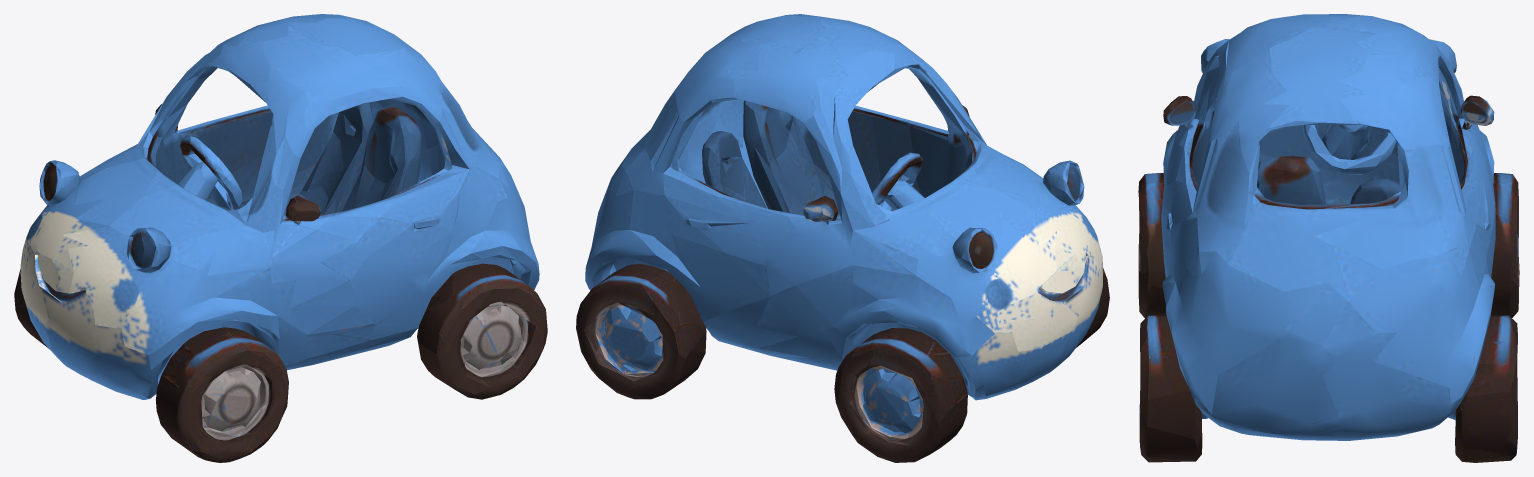
File: car.368c4153.glb
3 renders of one model, left to right at view 1: azimuth 30°, elevation 25°; view 2: azimuth 150°, elevation 25°; view 3: azimuth 270°, elevation 25°, orthographic. The views are drawn at different scales.
Visible parts, largest first — view 1: body, wheelFL, wheelRL, wheelFR; view 2: body, wheelFR, wheelRR, wheelFL; view 3: body, wheelRL, wheelRR, wheelFR, wheelFL.
Boxes of the visible parts, x1,y1,x2,y2 form: body: [20, 14, 539, 391]; wheelFL: [96, 320, 373, 462]; wheelRL: [310, 257, 547, 399]; wheelFR: [14, 269, 48, 348]; body: [585, 14, 1103, 397]; wheelFR: [760, 322, 1031, 462]; wheelRR: [576, 258, 807, 399]; wheelFL: [1076, 268, 1109, 347]; body: [1138, 14, 1518, 440]; wheelRL: [1139, 330, 1268, 462]; wheelRR: [1376, 338, 1517, 462]; wheelFR: [1491, 189, 1519, 317]; wheelFL: [1138, 192, 1166, 318].
Size of the model in its own units: 1.9 by 1.32 by 1.23.
1 material, 1 textured.
